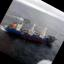fishing boat: (3, 12, 60, 57)
